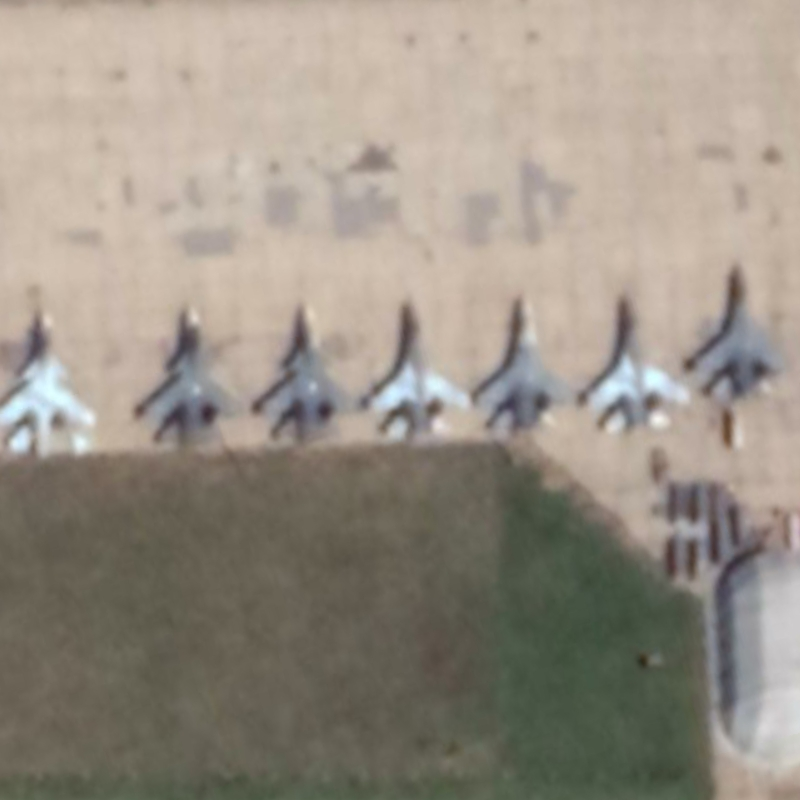A1: (364, 289, 472, 444), (582, 287, 693, 435), (474, 287, 576, 437), (692, 258, 791, 405)
A19: (136, 302, 246, 452), (252, 299, 356, 449), (1, 308, 99, 460)
